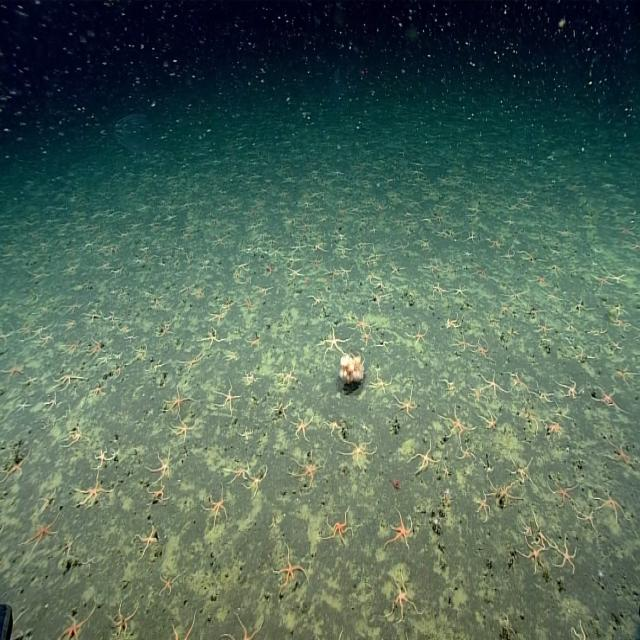brittle-stars: (321, 502, 356, 543), (339, 433, 377, 468), (602, 435, 635, 472), (271, 550, 303, 588), (407, 444, 445, 474), (56, 605, 88, 640), (74, 473, 105, 509), (386, 582, 415, 620), (383, 514, 414, 547), (14, 522, 50, 550), (442, 406, 470, 442), (592, 492, 628, 520), (215, 376, 238, 416), (203, 488, 227, 526), (129, 530, 160, 558), (158, 390, 186, 421), (104, 608, 136, 634), (591, 387, 625, 410), (156, 567, 182, 597), (484, 368, 510, 398), (550, 479, 576, 509), (223, 615, 254, 640), (397, 387, 422, 418), (144, 453, 176, 477), (556, 542, 579, 575), (519, 546, 544, 576), (288, 460, 319, 484), (0, 459, 25, 487), (489, 478, 518, 501), (165, 616, 191, 640), (318, 336, 344, 360), (177, 350, 203, 372), (225, 462, 248, 486), (294, 413, 311, 445), (146, 476, 165, 504), (475, 495, 495, 519), (377, 373, 394, 401), (52, 368, 78, 386), (408, 327, 430, 348), (559, 380, 582, 400), (2, 358, 24, 378), (276, 368, 296, 390), (62, 536, 75, 567), (94, 442, 110, 467), (531, 388, 556, 404), (609, 365, 634, 381), (509, 372, 530, 391), (246, 471, 268, 489), (512, 464, 534, 482), (104, 366, 125, 384), (484, 414, 502, 435), (581, 505, 594, 534), (536, 522, 550, 548), (517, 409, 543, 423), (179, 422, 195, 444), (475, 339, 493, 357), (271, 401, 290, 418), (366, 293, 385, 310), (458, 443, 473, 464), (66, 429, 83, 447), (87, 382, 106, 398), (129, 346, 148, 362), (65, 339, 80, 359), (574, 349, 591, 366), (204, 330, 218, 350), (40, 396, 57, 412), (37, 496, 53, 513), (100, 349, 116, 365), (360, 326, 375, 342), (85, 309, 101, 324), (157, 322, 172, 338), (457, 336, 474, 350), (326, 418, 344, 431), (42, 334, 53, 355), (612, 323, 630, 335), (30, 322, 43, 338), (472, 385, 481, 408), (243, 369, 255, 386), (608, 336, 622, 350), (543, 322, 557, 336), (444, 380, 457, 395), (450, 284, 466, 296), (151, 295, 164, 309), (90, 335, 100, 353), (208, 314, 225, 324), (354, 317, 367, 330), (482, 464, 494, 478), (548, 422, 560, 436), (104, 312, 119, 323), (430, 285, 448, 294), (146, 363, 162, 373), (308, 298, 324, 308), (610, 298, 622, 311), (445, 316, 458, 328), (65, 301, 79, 312), (572, 304, 586, 315), (219, 299, 233, 310), (249, 338, 264, 348), (118, 332, 136, 340), (196, 286, 204, 304), (519, 522, 532, 533), (116, 322, 130, 332), (243, 300, 257, 310), (0, 331, 8, 348), (17, 402, 28, 414), (181, 280, 192, 292), (377, 338, 387, 350), (22, 377, 36, 385), (507, 328, 518, 338), (226, 354, 238, 362), (566, 323, 576, 332), (241, 430, 249, 441), (66, 322, 75, 331)
